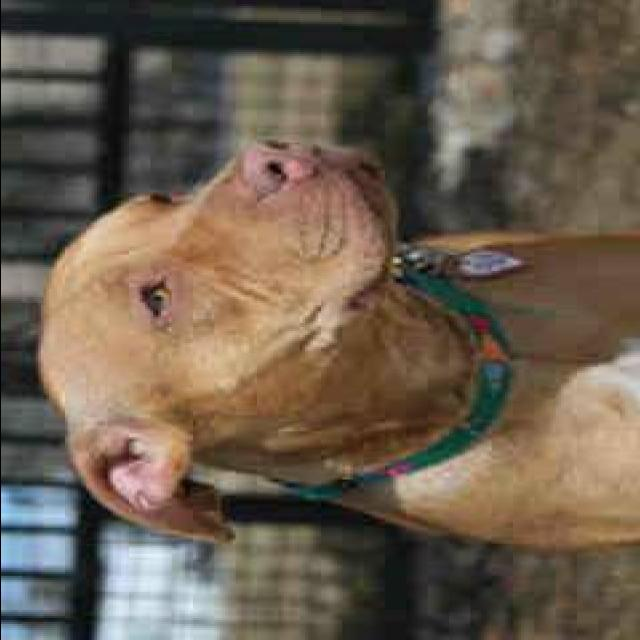dog: (24, 114, 640, 584)
